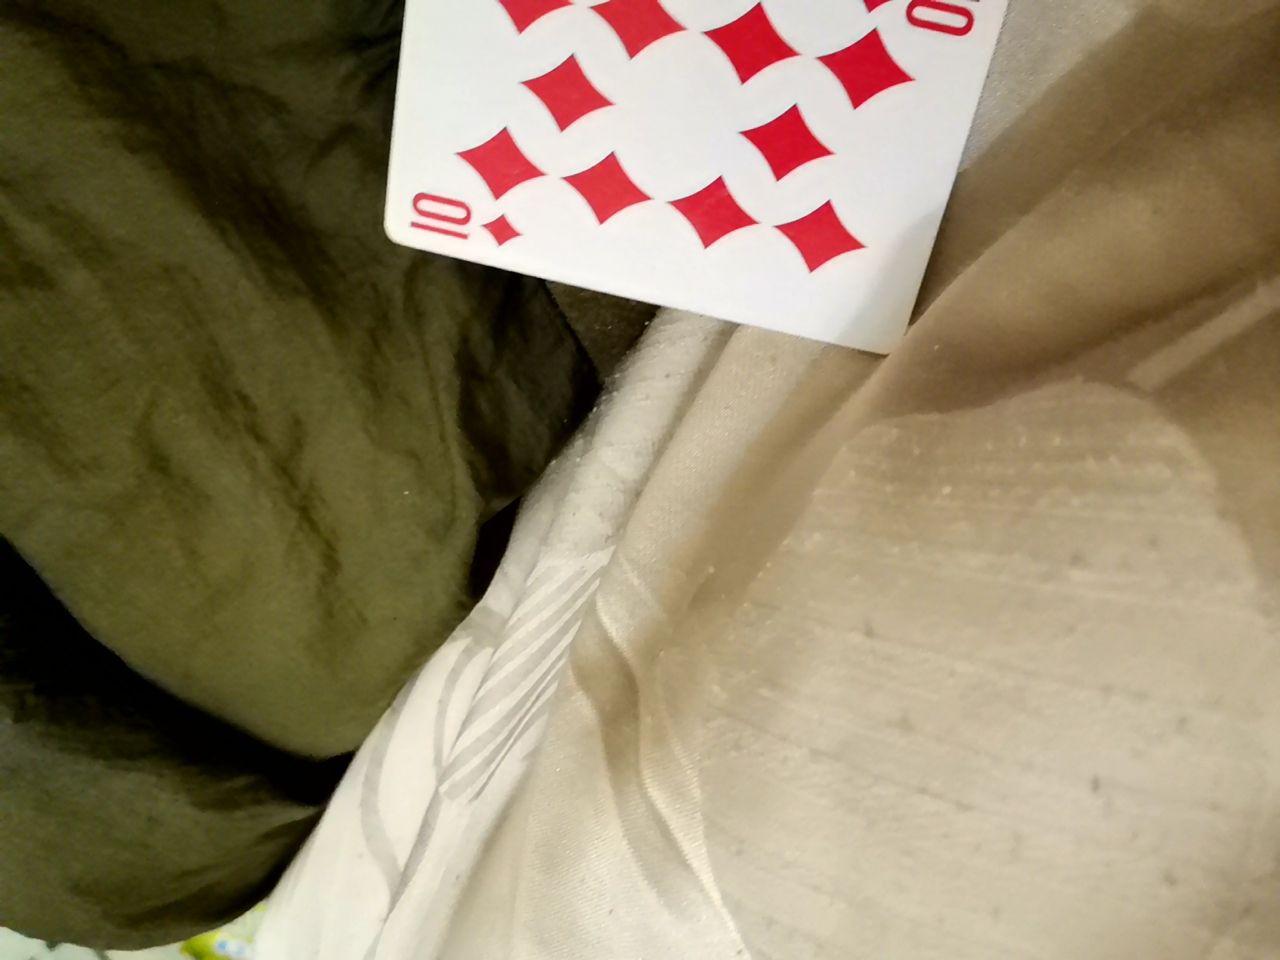fk 10: (324, 0, 1014, 353)
